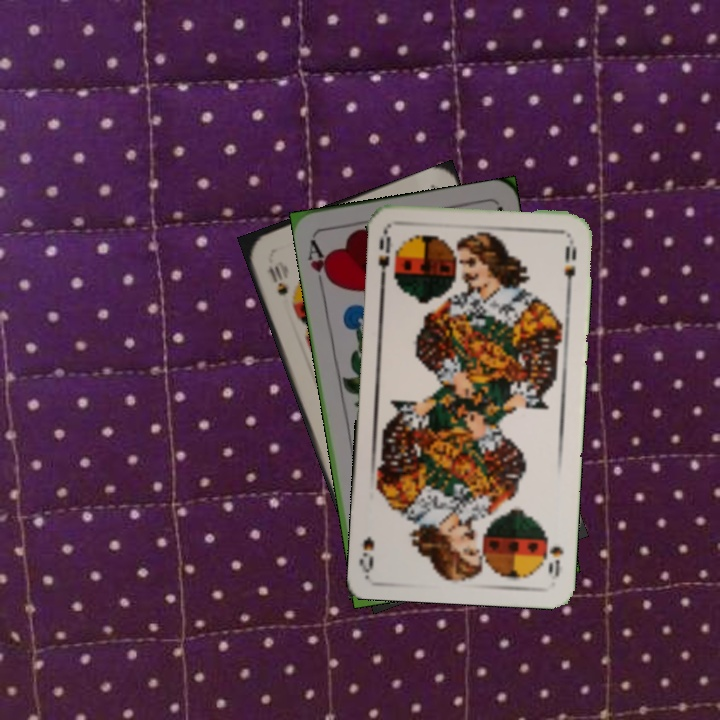HA: (304, 235, 335, 293)
S10: (264, 261, 291, 298)
SO: (374, 224, 393, 283), (544, 542, 566, 580)
